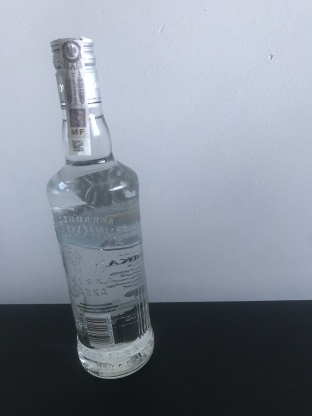nakretka: (48, 33, 103, 111)
